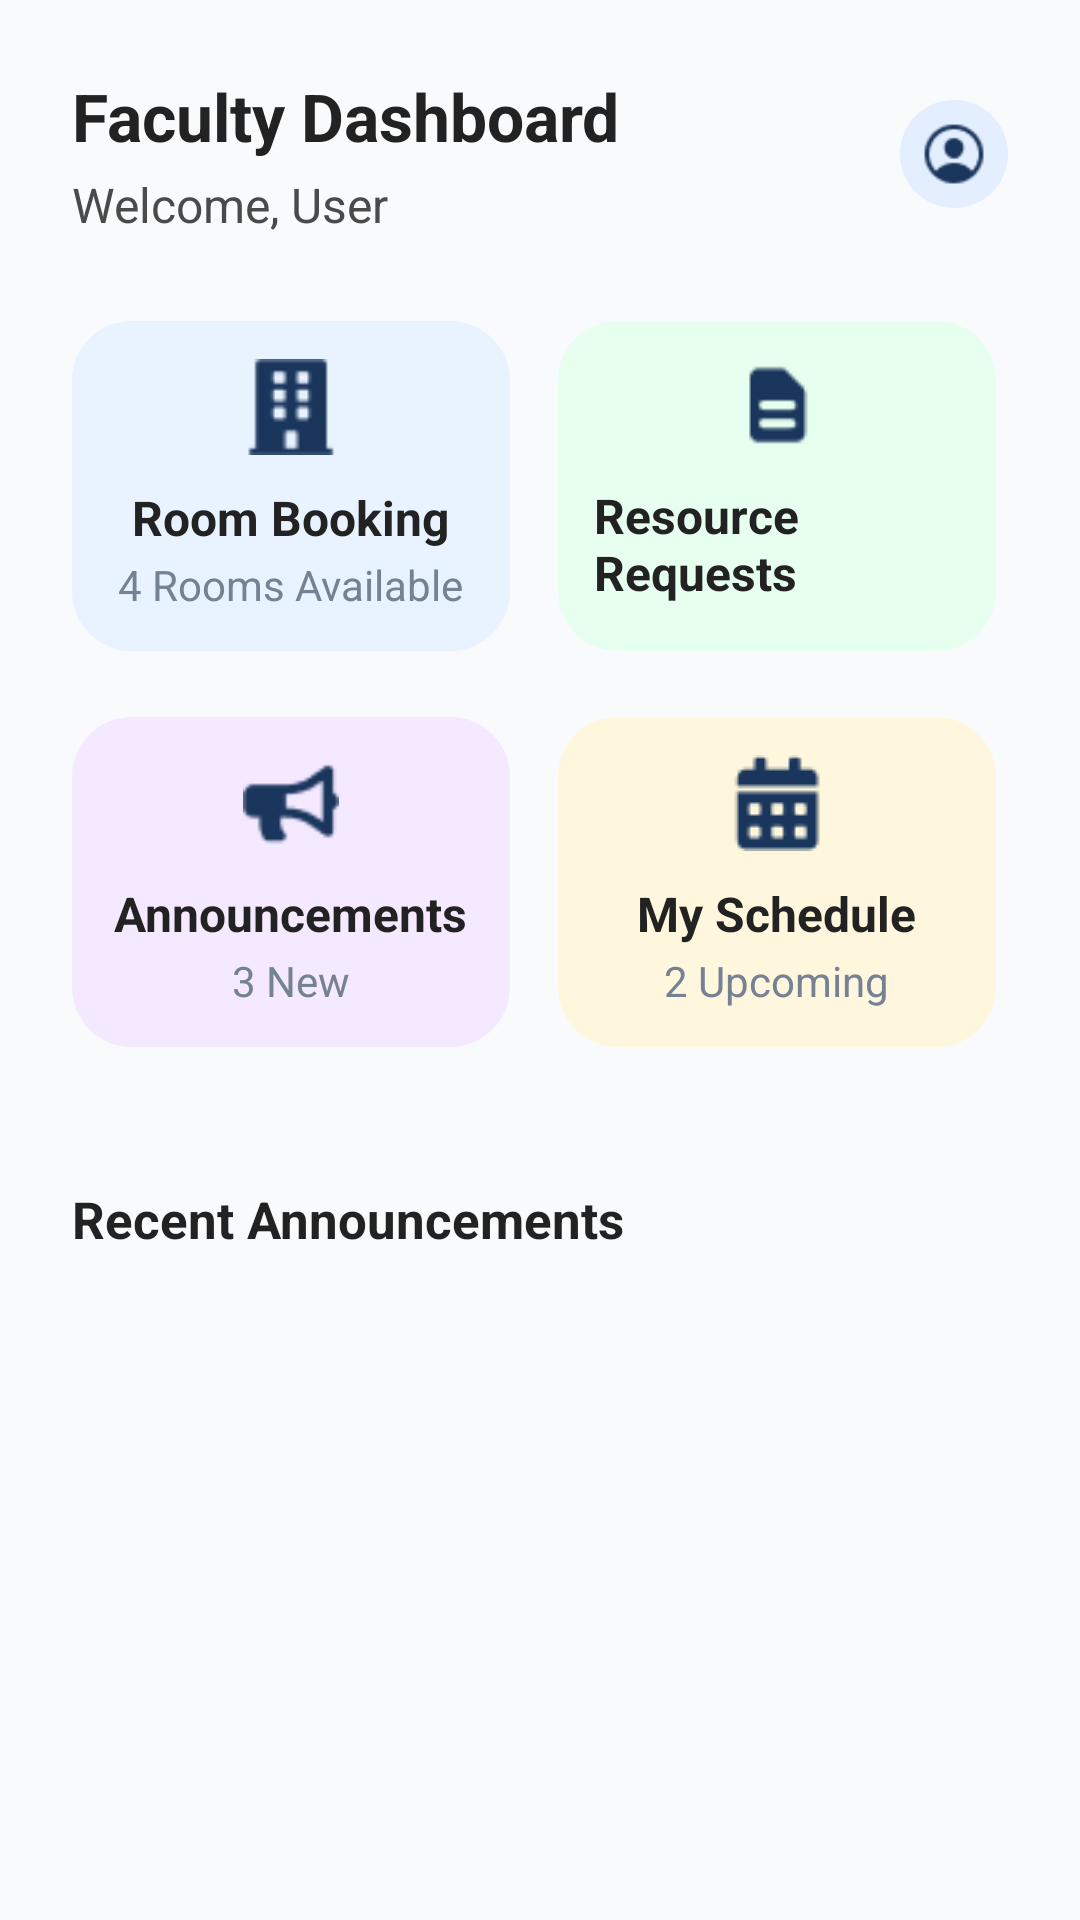

Icon bounding boxes for this 1080x1920 phone screenshot, format (x1,y1,x2,y2):
Profile Icon: (924,124,984,184)
